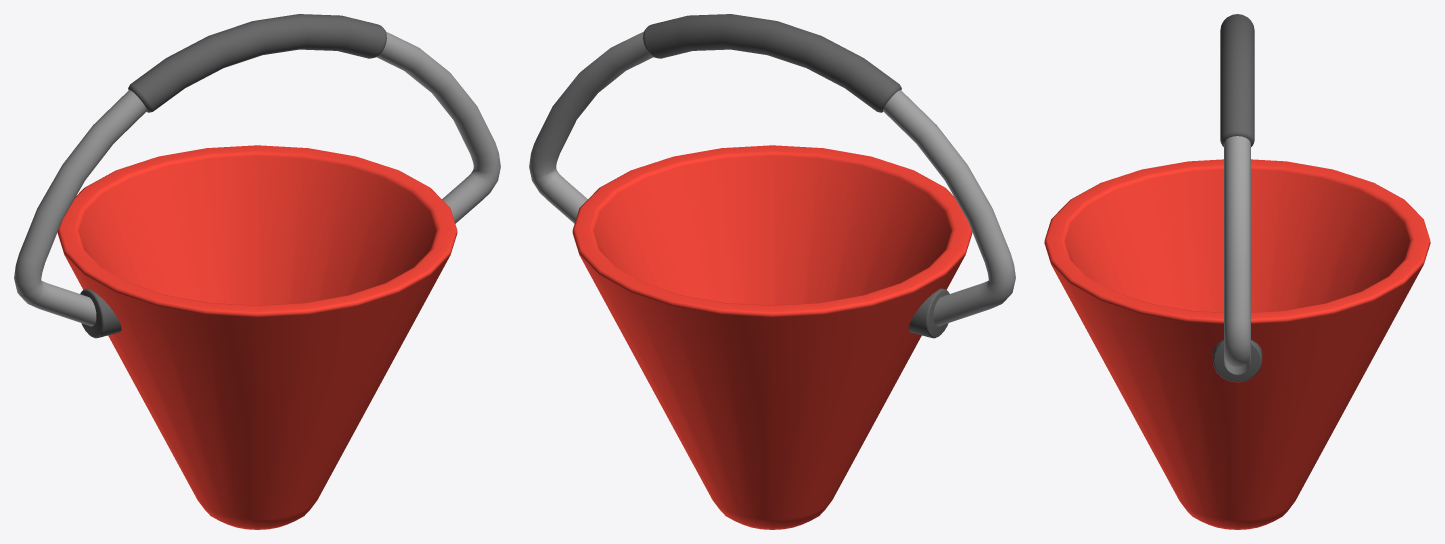
Rendered from Public_11_Firefighter_Bucket_2.glb.
3 views of the same model, side by side, from view 1: azimuth 30°, elevation 25°; view 2: azimuth 150°, elevation 25°; view 3: azimuth 270°, elevation 25° (orthographic). The views are drawn at different scales.
Parts seen in each view (by area): view 1: Public_11_Firefighter_Bucket_2; view 2: Public_11_Firefighter_Bucket_2; view 3: Public_11_Firefighter_Bucket_2.
Part boxes in pixels (x1,y1,x2,y2): Public_11_Firefighter_Bucket_2: (14,14,500,529); Public_11_Firefighter_Bucket_2: (529,14,1015,529); Public_11_Firefighter_Bucket_2: (1044,14,1430,529).
Size of the model in its own units: 0.7303 by 0.7125 by 0.5236.
Materials: 1 (1 with a texture image).
